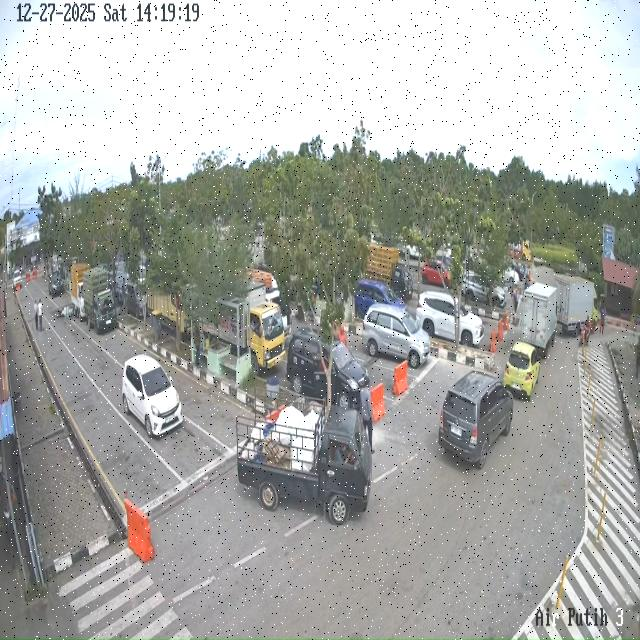Golongan IVA: (438, 371, 514, 469), (286, 327, 368, 410), (122, 354, 183, 438), (362, 304, 430, 369), (416, 291, 484, 347), (503, 341, 541, 401), (354, 279, 406, 319), (462, 271, 507, 308), (48, 271, 64, 297)
Golongan IVB: (236, 398, 372, 525), (83, 267, 116, 334), (69, 263, 90, 321)
Golongan VB: (521, 283, 557, 359), (555, 275, 599, 337)
